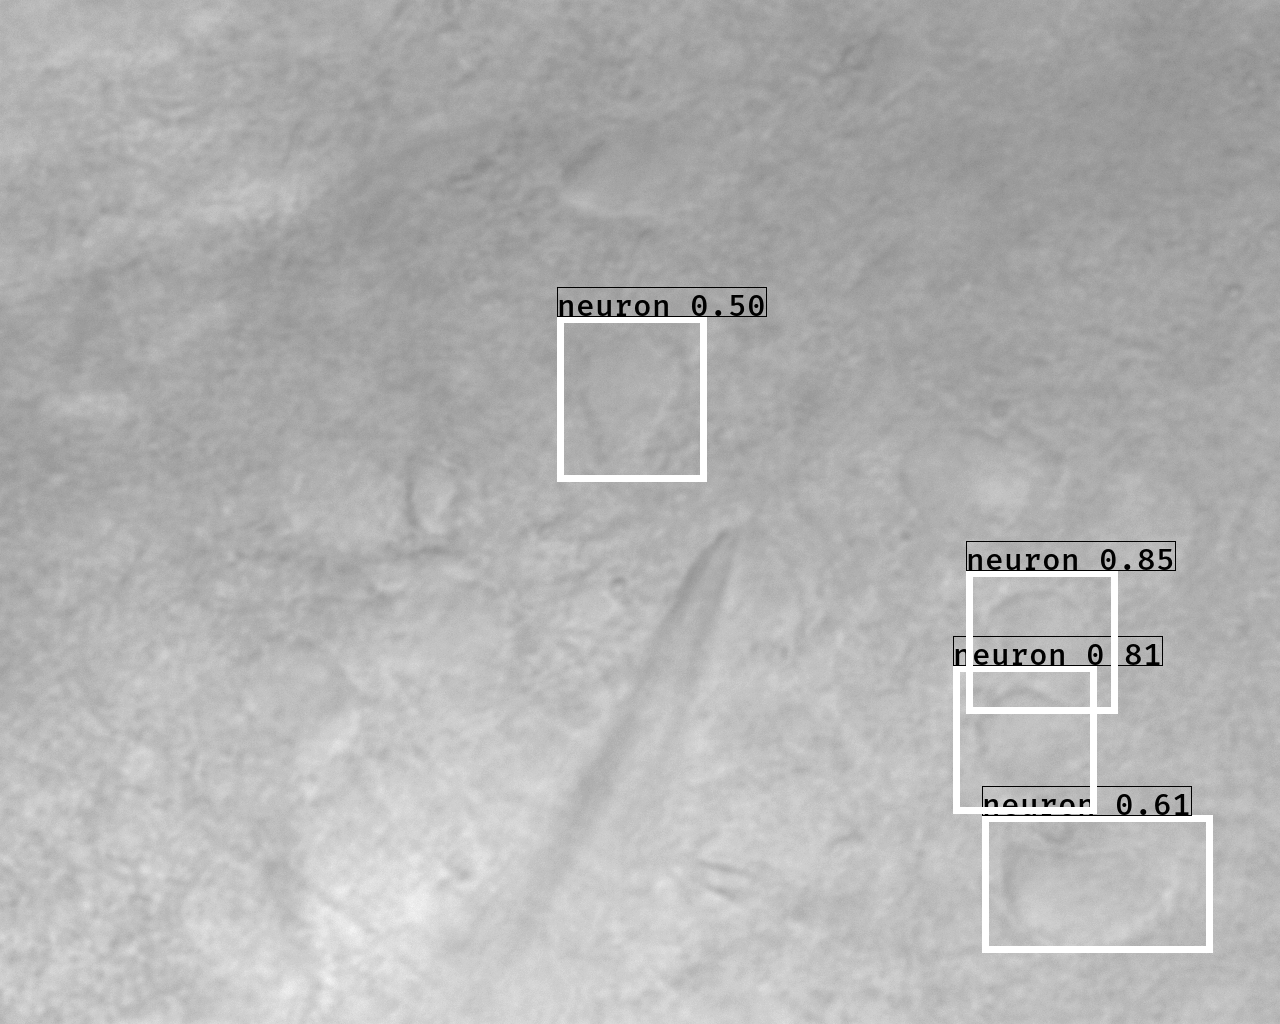neuron: (886, 412, 1037, 535), (574, 323, 691, 468), (967, 682, 1107, 804), (549, 124, 691, 219), (975, 580, 1103, 677)
